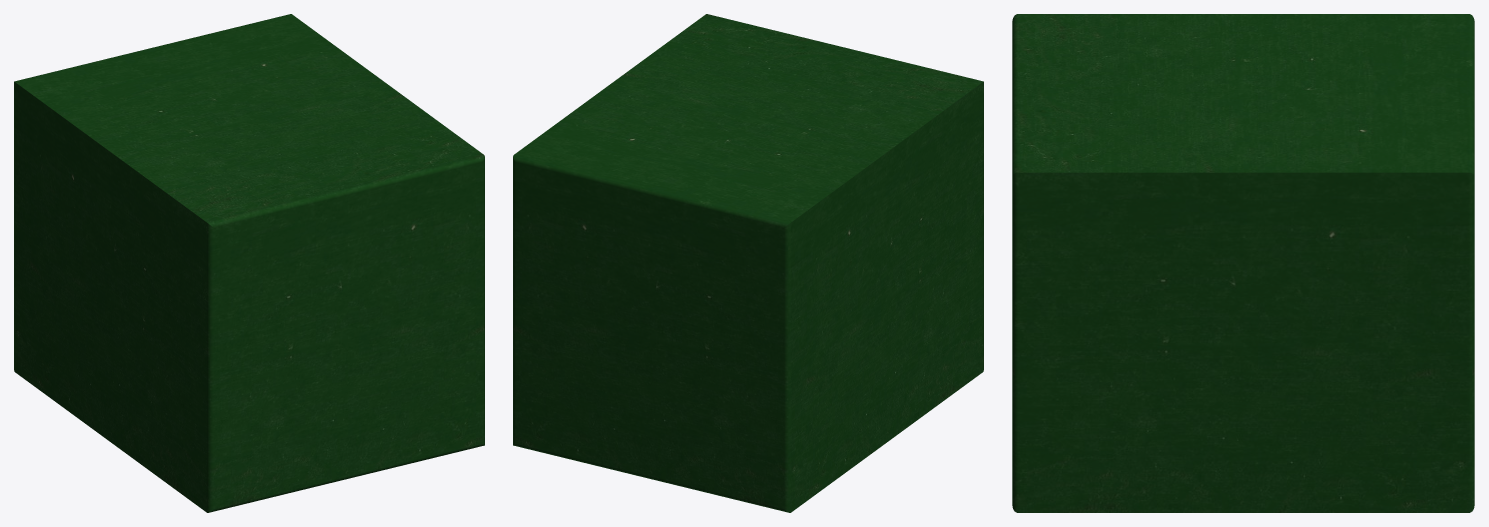
The model's file is square.glb.
3 views of the same model, side by side, from view 1: azimuth 30°, elevation 25°; view 2: azimuth 150°, elevation 25°; view 3: azimuth 270°, elevation 25° (orthographic). The views are drawn at different scales.
Visible parts, largest first — view 1: square_2; view 2: square_2; view 3: square_2.
Part boxes in pixels (x1=…): square_2: x1=14, y1=14, x2=484, y2=512; square_2: x1=513, y1=14, x2=983, y2=512; square_2: x1=1012, y1=14, x2=1474, y2=512.
Size of the model in its own units: 0.0325 by 0.0325 by 0.04.
Materials: 1 (1 with a texture image).
